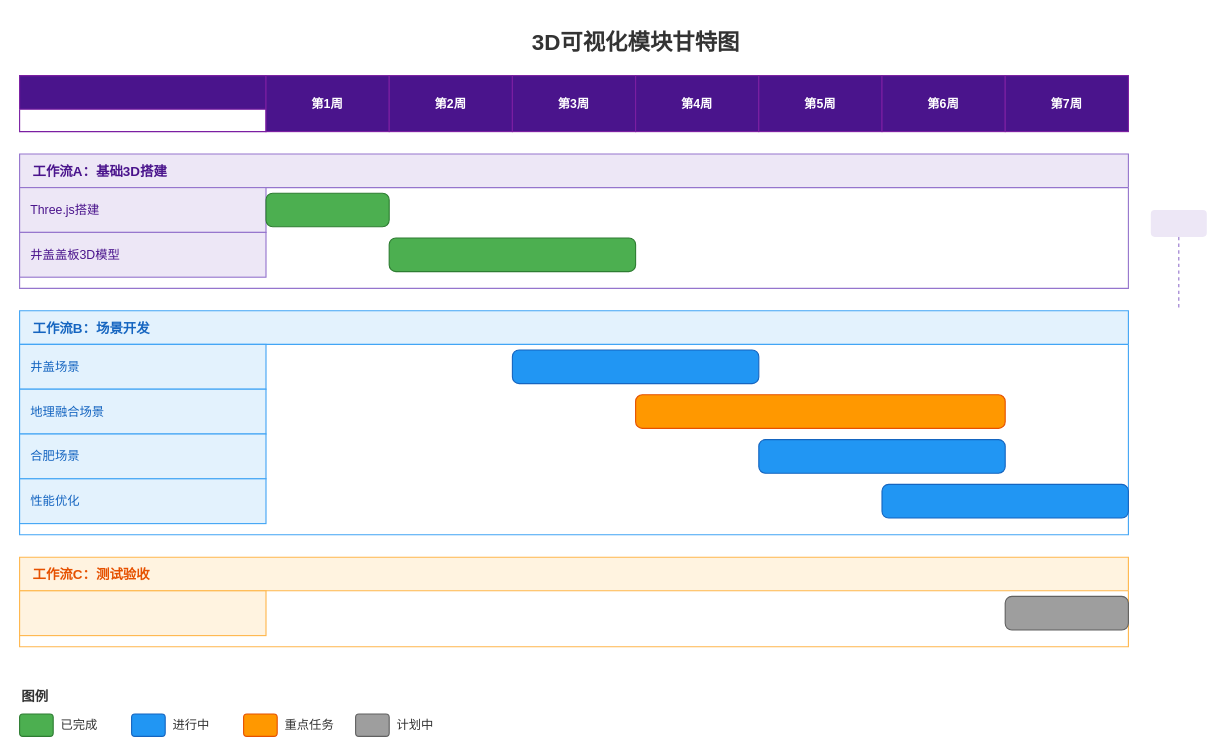
Image size: 1226x756. Some labels were removed from this diagram. The shapes that lost their labels are listed below. From the top down, each one's centre as x and y in pixels, then its label:
pixel 142 103: 任务
pixel 1178 222: 并行
pixel 142 613: 集成测试
